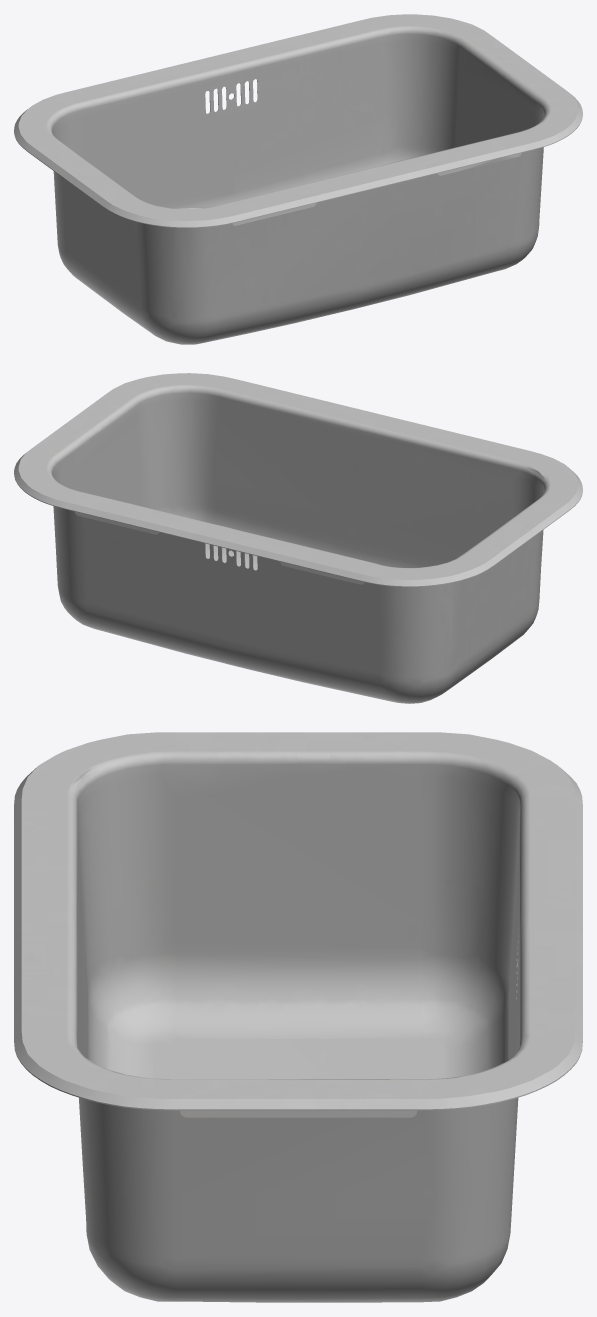
Rendered from Boholmen99157501-scene-512.glb.
3 views of the same model, one above another, from view 1: azimuth 30°, elevation 25°; view 2: azimuth 150°, elevation 25°; view 3: azimuth 270°, elevation 25° (orthographic). The views are drawn at different scales.
Parts seen in each view (by area): view 1: model; view 2: model; view 3: model.
Part boxes in pixels (x1,y1,x2,y2): model: [14, 14, 582, 344]; model: [14, 373, 582, 703]; model: [14, 732, 582, 1302].
Size of the model in its own units: 0.466 by 0.1571 by 0.3001.
1 material, 1 textured.
